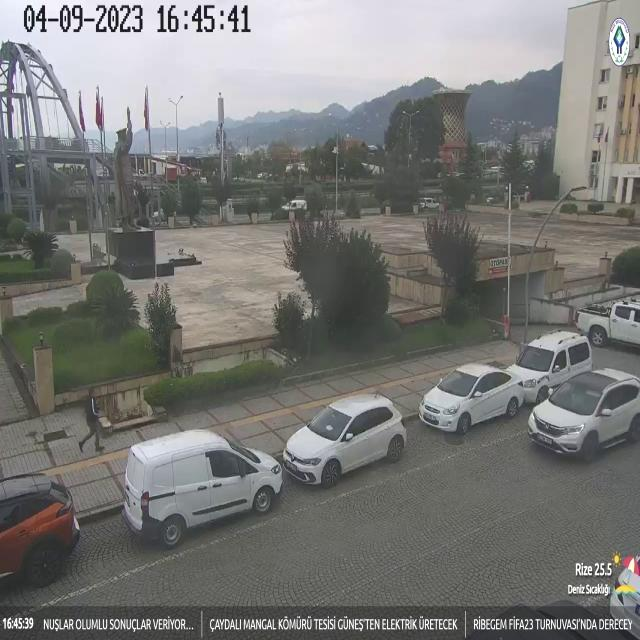Car: (280, 396, 412, 494), (526, 370, 639, 462), (0, 474, 80, 581), (420, 358, 518, 438), (512, 325, 594, 388), (576, 294, 640, 348)
Van: (119, 424, 291, 542)
